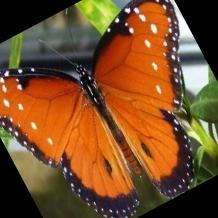butterfly: (0, 0, 193, 218)
